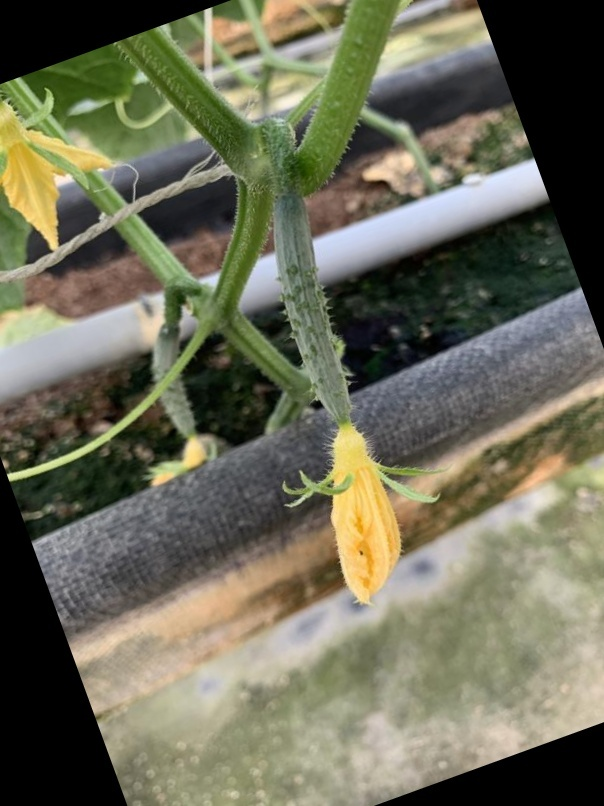bear: (255, 189, 437, 613)
